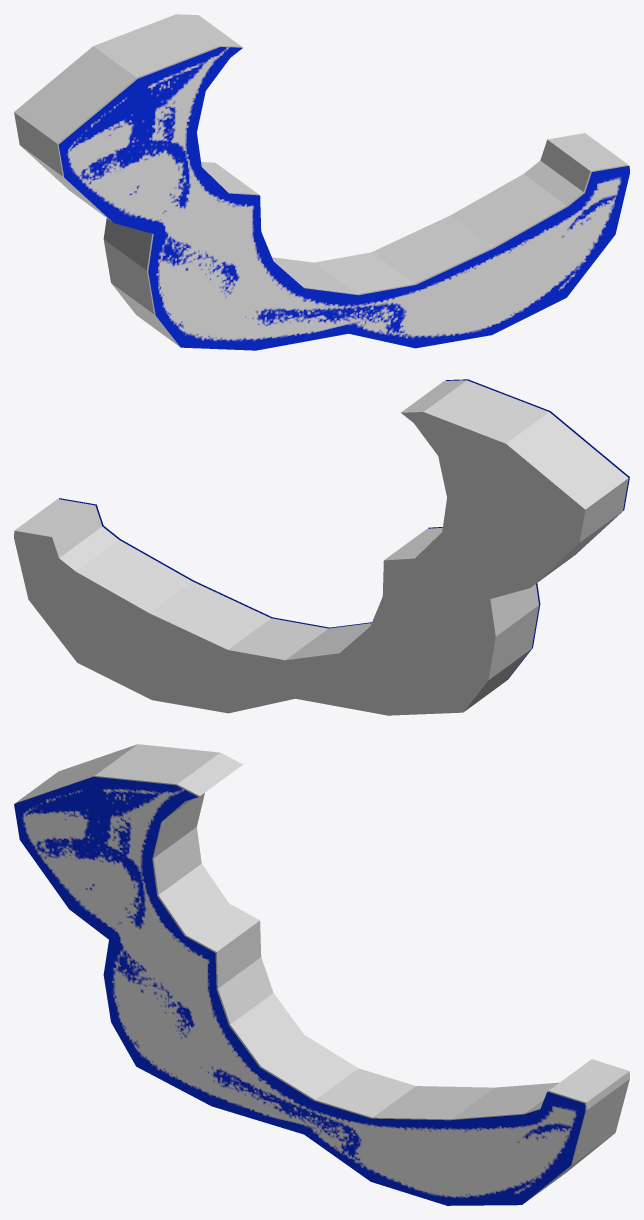
3 renders of one model, top to bottom at view 1: azimuth 30°, elevation 25°; view 2: azimuth 150°, elevation 25°; view 3: azimuth 330°, elevation 25°, orthographic.
Parts seen in each view (by area): view 1: In_6_1, In_6_0; view 2: In_6_0, In_6_1; view 3: In_6_1, In_6_0.
Part boxes in pixels (x1=…): In_6_1: x1=58, y1=47, x2=629, y2=350; In_6_0: x1=14, y1=14, x2=628, y2=346; In_6_0: x1=14, y1=380, x2=628, y2=715; In_6_1: x1=59, y1=379, x2=629, y2=679; In_6_1: x1=14, y1=776, x2=585, y2=1205; In_6_0: x1=15, y1=744, x2=629, y2=1202.
Size of the model in its own units: 3.81 by 2.26 by 0.515.
2 materials, 1 textured.
